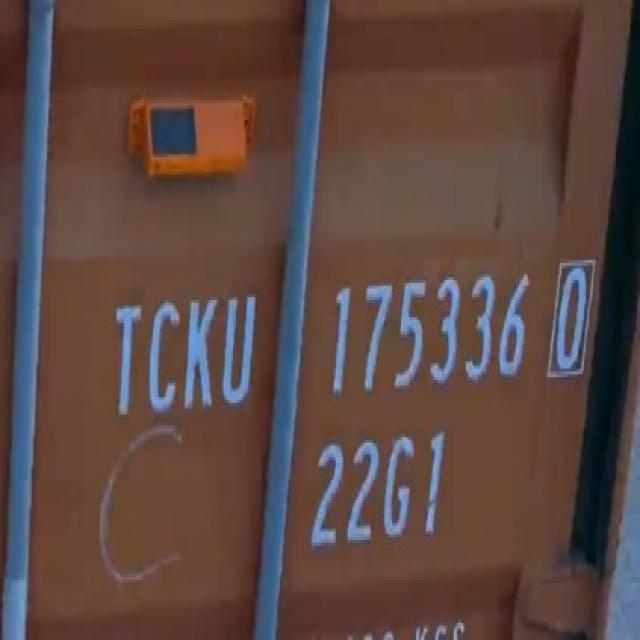dv: (544, 250, 596, 392)
owner: (112, 283, 258, 412)
serial: (324, 263, 528, 400)
size: (304, 409, 451, 570)
